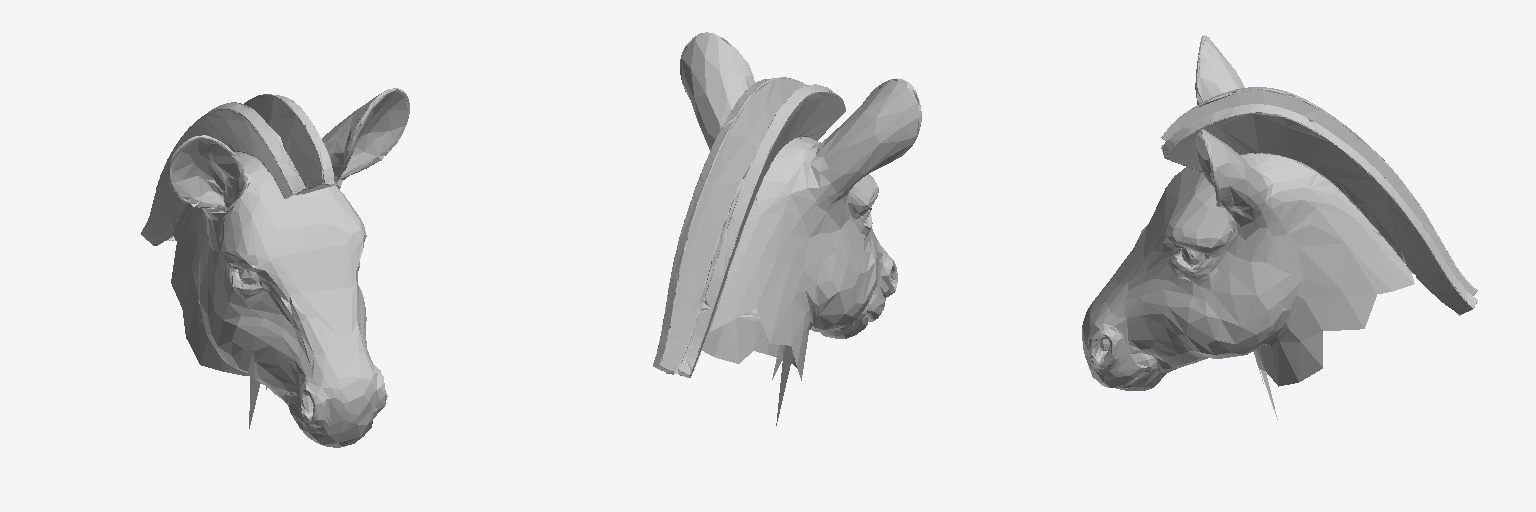
The model's file is cabeza_Zebra.obj.
3 renders of one model, left to right at view 1: azimuth 30°, elevation 25°; view 2: azimuth 150°, elevation 25°; view 3: azimuth 270°, elevation 25°, orthographic.
Parts seen in each view (by area): view 1: HeadZebra; view 2: HeadZebra; view 3: HeadZebra.
Part boxes in pixels (left/top/right/bottom): HeadZebra: left=141, top=88, right=409, bottom=447; HeadZebra: left=653, top=32, right=921, bottom=425; HeadZebra: left=1082, top=35, right=1477, bottom=419.
Size of the model in its own units: 21.18 by 28.8 by 30.1.